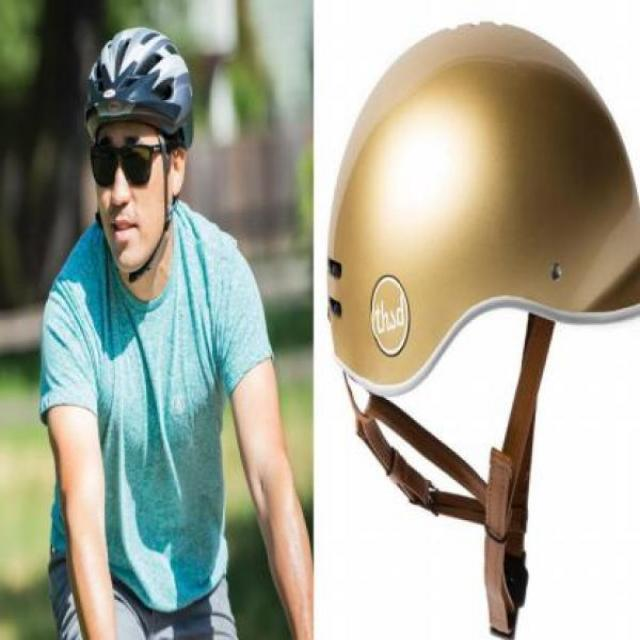Helmet: (340, 18, 640, 486), (79, 34, 229, 282)
